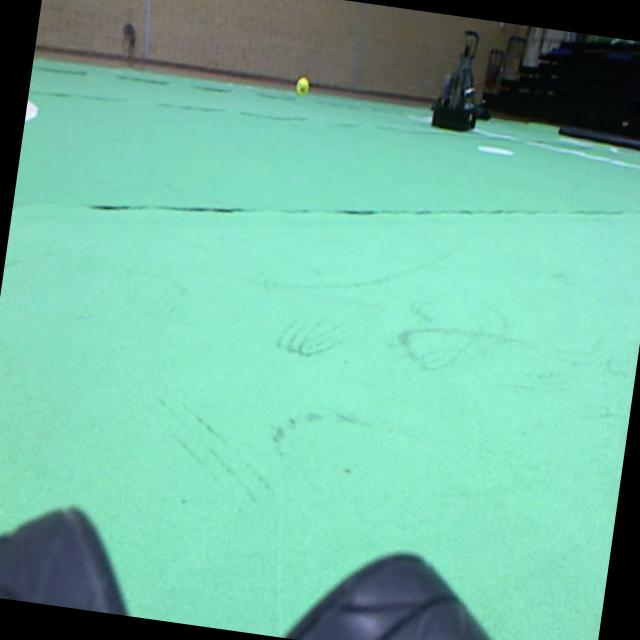ball: (296, 76, 309, 94)
robot: (432, 30, 478, 130)
